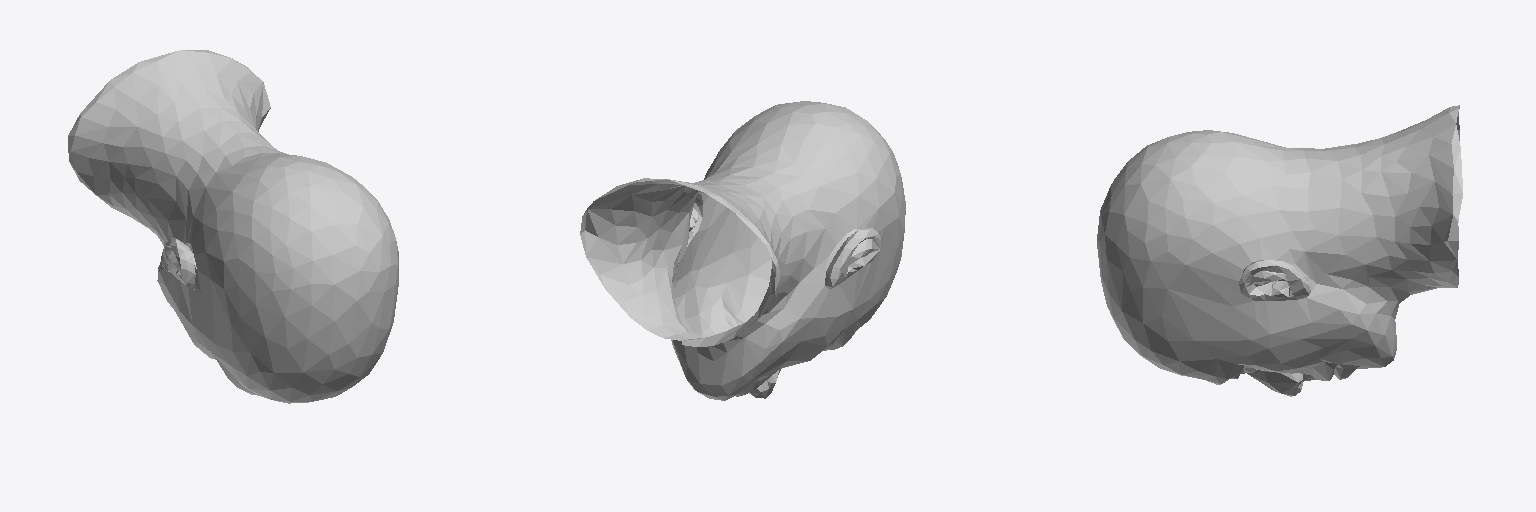
Rendered from head.obj.
3 views of the same model, side by side, from view 1: azimuth 30°, elevation 25°; view 2: azimuth 150°, elevation 25°; view 3: azimuth 270°, elevation 25° (orthographic).
Bounding box in the file's own units: 179 × 240 × 288.